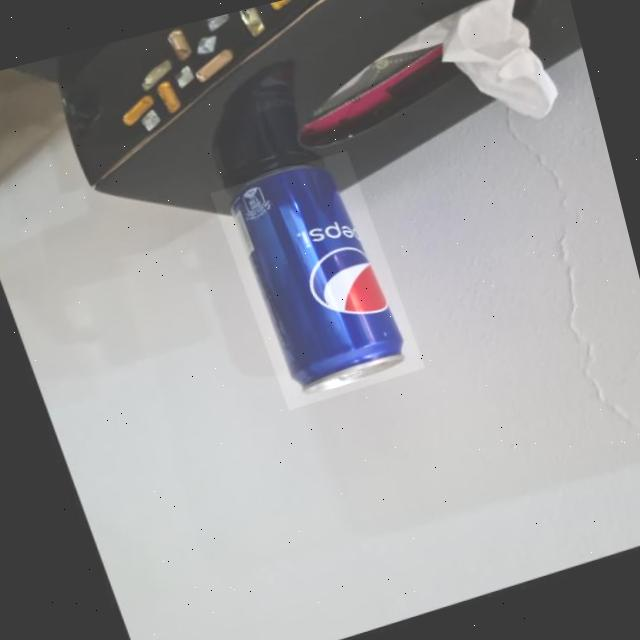trash: (213, 140, 417, 412)
